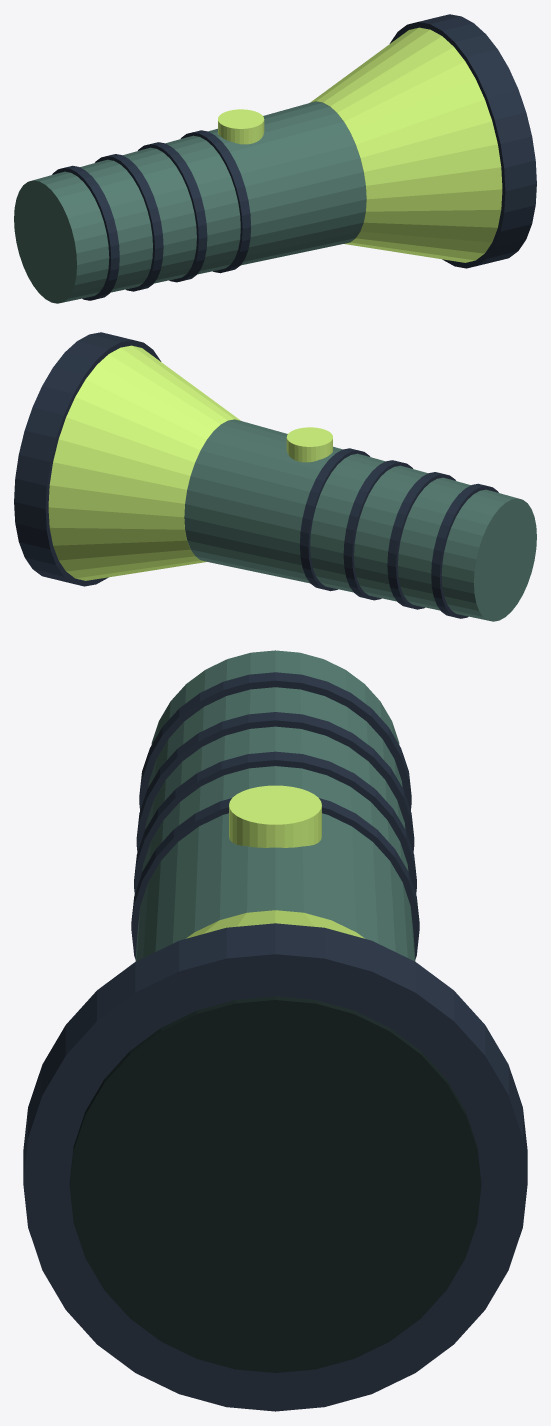
Rendered from flashlight.glb.
3 renders of one model, top to bottom at view 1: azimuth 30°, elevation 25°; view 2: azimuth 150°, elevation 25°; view 3: azimuth 270°, elevation 25°, orthographic. The views are drawn at different scales.
Parts seen in each view (by area): view 1: grip, head, bezel, grip ring 3, grip ring 2, grip ring 1, grip ring 0, switch; view 2: grip, head, bezel, grip ring 3, grip ring 2, grip ring 1, grip ring 0, switch; view 3: lens, bezel, grip, switch, grip ring 0, grip ring 1, grip ring 2, grip ring 3, head.
Part boxes in pixels (left/top/right/bottom): grip: left=14, top=101, right=366, bottom=303; head: left=310, top=27, right=502, bottom=262; bezel: left=389, top=14, right=536, bottom=268; grip ring 3: left=180, top=130, right=250, bottom=273; grip ring 2: left=138, top=142, right=207, bottom=282; grip ring 1: left=95, top=154, right=163, bottom=291; grip ring 0: left=52, top=165, right=119, bottom=300; switch: left=218, top=109, right=264, bottom=144; grip: left=184, top=419, right=536, bottom=621; head: left=48, top=345, right=240, bottom=580; bezel: left=14, top=332, right=161, bottom=586; grip ring 3: left=300, top=448, right=370, bottom=591; grip ring 2: left=343, top=460, right=412, bottom=600; grip ring 1: left=387, top=472, right=455, bottom=609; grip ring 0: left=431, top=483, right=498, bottom=618; switch: left=286, top=427, right=332, bottom=462; lens: left=69, top=996, right=481, bottom=1372; bezel: left=23, top=923, right=527, bottom=1411; grip: left=135, top=650, right=415, bottom=961; switch: left=229, top=785, right=321, bottom=847; grip ring 0: left=139, top=672, right=411, bottom=810; grip ring 1: left=136, top=712, right=414, bottom=852; grip ring 2: left=134, top=751, right=416, bottom=894; grip ring 3: left=131, top=798, right=419, bottom=959; head: left=186, top=910, right=364, bottom=938.
Bounding box in the file's own units: 1.5 × 0.76 × 0.76.
